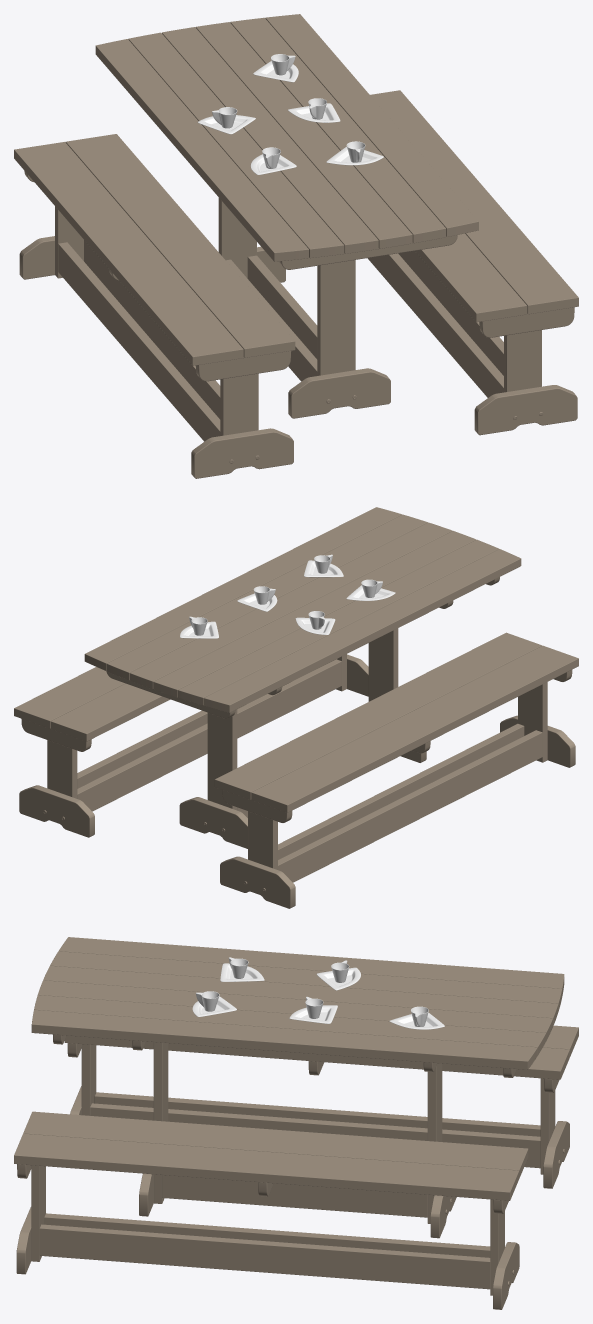
3 views of the same model, one above another, from view 1: azimuth 30°, elevation 25°; view 2: azimuth 150°, elevation 25°; view 3: azimuth 270°, elevation 25° (orthographic). The views are drawn at different scales.
Visible parts, largest first — view 1: arch22_071_25, arch22_071_30, arch22_071_66, arch22_071_33, arch22_071_68, arch22_071_04, arch22_071_19, arch22_071_00, arch22_071_62, arch22_071_10, arch22_071_21, arch22_071_64 (+3 smaller); view 2: arch22_071_25, arch22_071_30, arch22_071_33, arch22_071_68, arch22_071_66, arch22_071_04, arch22_071_19, arch22_071_62, arch22_071_21, arch22_071_00, arch22_071_64, arch22_071_32 (+2 smaller); view 3: arch22_071_25, arch22_071_66, arch22_071_68, arch22_071_33, arch22_071_10, arch22_071_30, arch22_071_04, arch22_071_64, arch22_071_21, arch22_071_62, arch22_071_19, arch22_071_00 (+7 smaller).
Boxes of the visible parts, left/top/right/bottom form: arch22_071_25: left=95, top=14, right=478, bottom=261; arch22_071_30: left=14, top=134, right=295, bottom=365; arch22_071_66: left=370, top=90, right=578, bottom=322; arch22_071_33: left=58, top=240, right=220, bottom=441; arch22_071_68: left=367, top=251, right=503, bottom=397; arch22_071_04: left=218, top=197, right=355, bottom=375; arch22_071_19: left=19, top=236, right=293, bottom=478; arch22_071_00: left=257, top=246, right=390, bottom=418; arch22_071_62: left=474, top=385, right=577, bottom=435; arch22_071_10: left=226, top=255, right=317, bottom=381; arch22_071_21: left=55, top=206, right=258, bottom=435; arch22_071_64: left=504, top=330, right=541, bottom=392; arch22_071_25: left=84, top=507, right=521, bottom=712; arch22_071_30: left=214, top=632, right=578, bottom=812; arch22_071_33: left=278, top=723, right=542, bottom=882; arch22_071_68: left=77, top=659, right=341, bottom=811; arch22_071_66: left=14, top=667, right=170, bottom=741; arch22_071_04: left=207, top=628, right=398, bottom=810; arch22_071_19: left=220, top=715, right=575, bottom=908; arch22_071_62: left=19, top=654, right=368, bottom=837; arch22_071_21: left=248, top=682, right=547, bottom=869; arch22_071_00: left=179, top=750, right=426, bottom=848; arch22_071_64: left=47, top=654, right=346, bottom=798; arch22_071_32: left=222, top=670, right=572, bottom=822; arch22_071_25: left=31, top=937, right=564, bottom=1069; arch22_071_66: left=14, top=1111, right=528, bottom=1200; arch22_071_68: left=39, top=1213, right=490, bottom=1289; arch22_071_33: left=90, top=1092, right=540, bottom=1168; arch22_071_10: left=162, top=1175, right=427, bottom=1217; arch22_071_30: left=64, top=1025, right=578, bottom=1079; arch22_071_04: left=153, top=1042, right=442, bottom=1223; arch22_071_64: left=31, top=1165, right=504, bottom=1295; arch22_071_21: left=81, top=1044, right=555, bottom=1174; arch22_071_62: left=16, top=1207, right=519, bottom=1309; arch22_071_19: left=70, top=1086, right=569, bottom=1188; arch22_071_00: left=139, top=1173, right=456, bottom=1238.
Size of the model in its own units: 2086 by 1073 by 2467.
